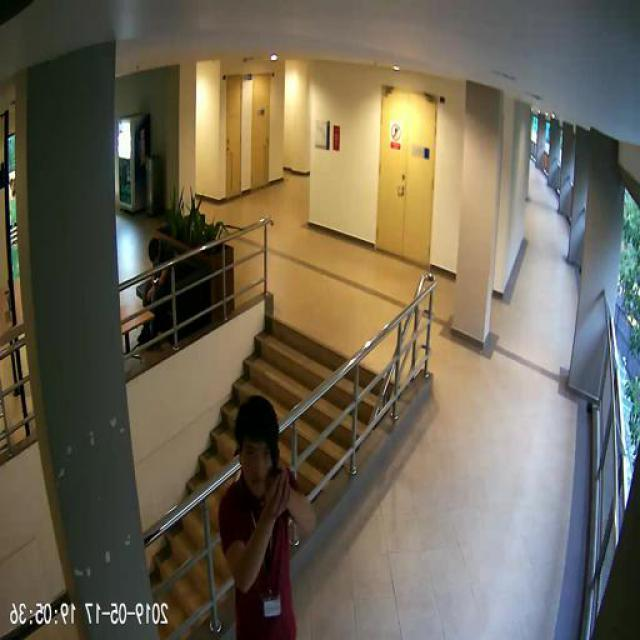Gun: (269, 431, 285, 491)
